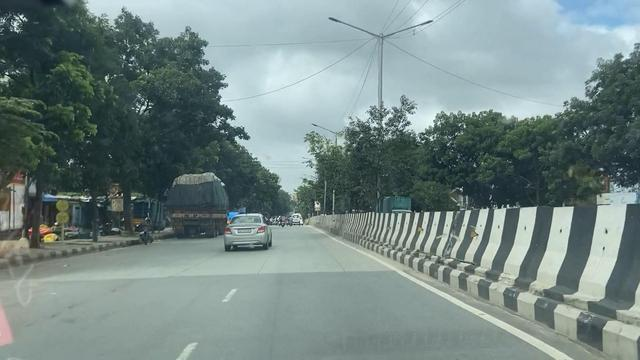LMV: (220, 210, 276, 251)
